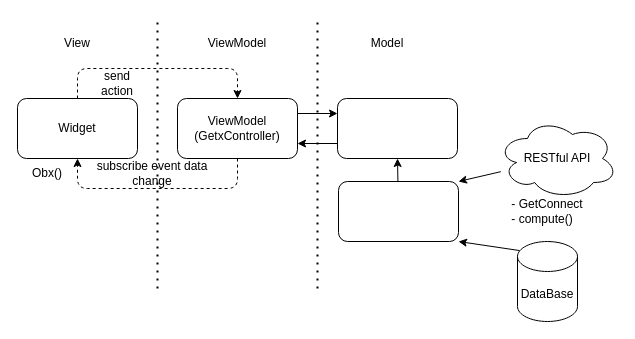
This 635x339 diagram has some shape labels left out. The shapes that lost their labels are listed below. From the top down, each one's centre as x and y in pixels, then its label:
At (x=397, y=128): "Repository".
At (x=398, y=211): "DataSource".
